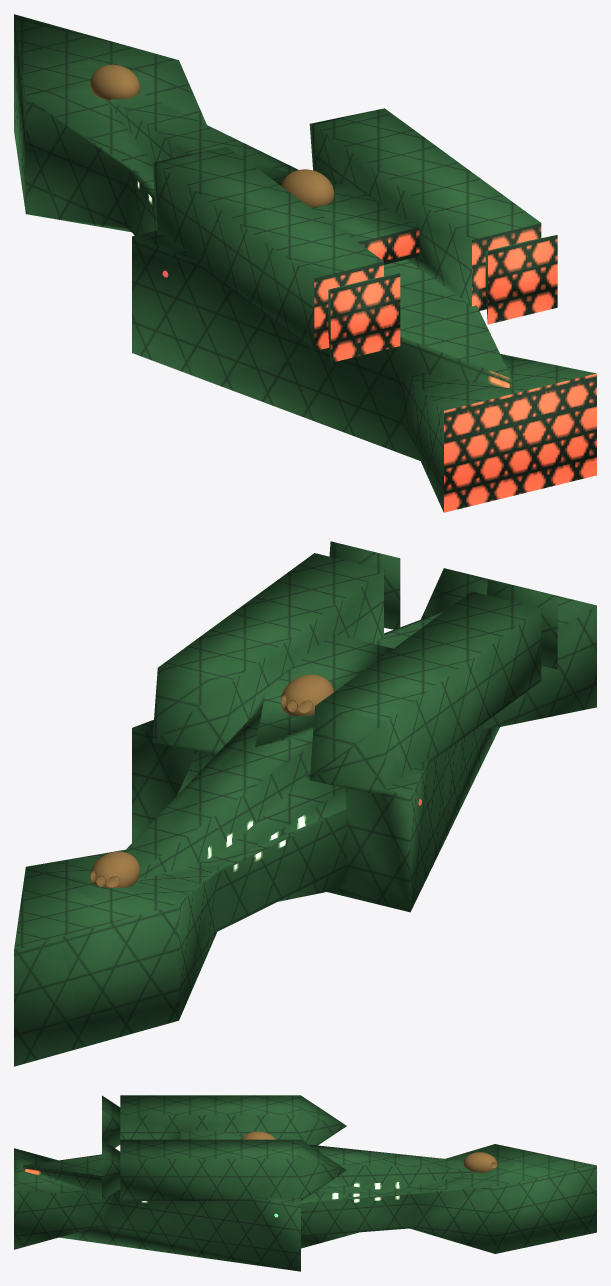
Rendered from krelath_destroyer.glb.
3 views of the same model, one above another, from view 1: azimuth 30°, elevation 25°; view 2: azimuth 150°, elevation 25°; view 3: azimuth 270°, elevation 25° (orthographic). The views are drawn at different scales.
Parts seen in each view (by area): view 1: KrelathDestroyer; view 2: KrelathDestroyer; view 3: KrelathDestroyer.
Boxes of the visible parts, bbox=[...] form: KrelathDestroyer: bbox=[14, 14, 596, 512]; KrelathDestroyer: bbox=[14, 541, 596, 1066]; KrelathDestroyer: bbox=[14, 1095, 596, 1271].
Bounding box in the file's own units: 15.87 × 10.86 × 50.
Materials: 1 (1 with a texture image).
